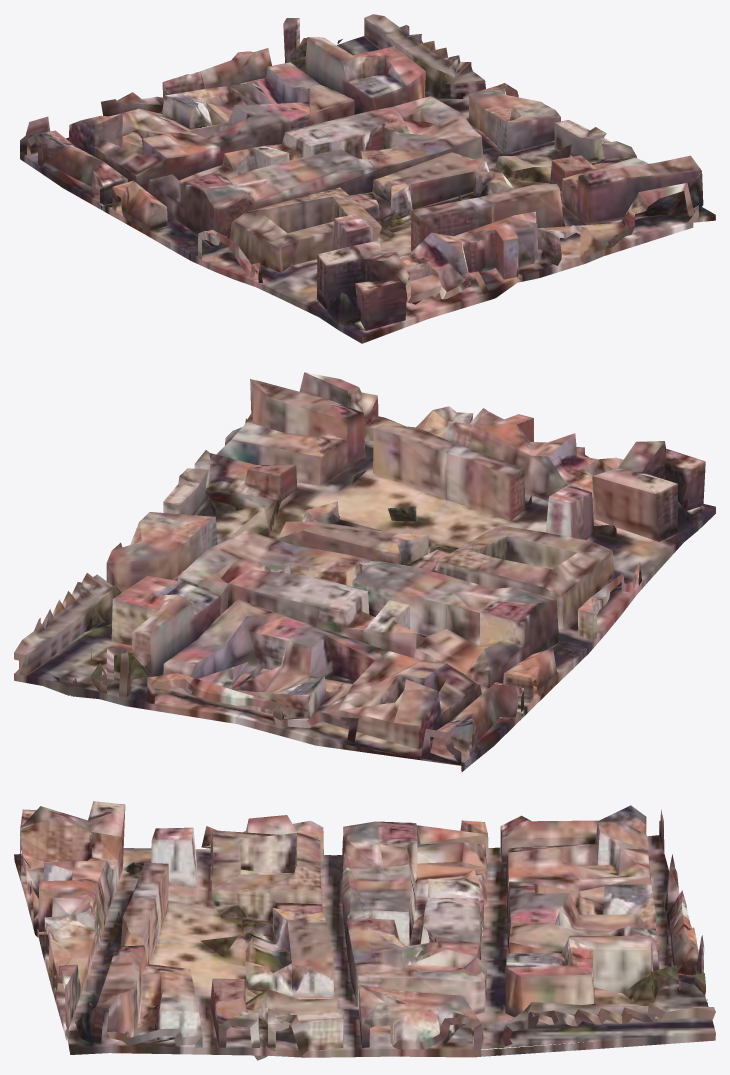
3 views of the same model, one above another, from view 1: azimuth 30°, elevation 25°; view 2: azimuth 150°, elevation 25°; view 3: azimuth 270°, elevation 25° (orthographic). The views are drawn at different scales.
Visible parts, largest first — view 1: Mesh_0; view 2: Mesh_0; view 3: Mesh_0.
Boxes of the visible parts, box(x1,y1,x2,y2) form: Mesh_0: box(20, 14, 715, 343); Mesh_0: box(14, 372, 715, 771); Mesh_0: box(14, 801, 715, 1060).
Bounding box in the file's own units: 270 × 47.21 × 330.
2 materials, 2 textured.
